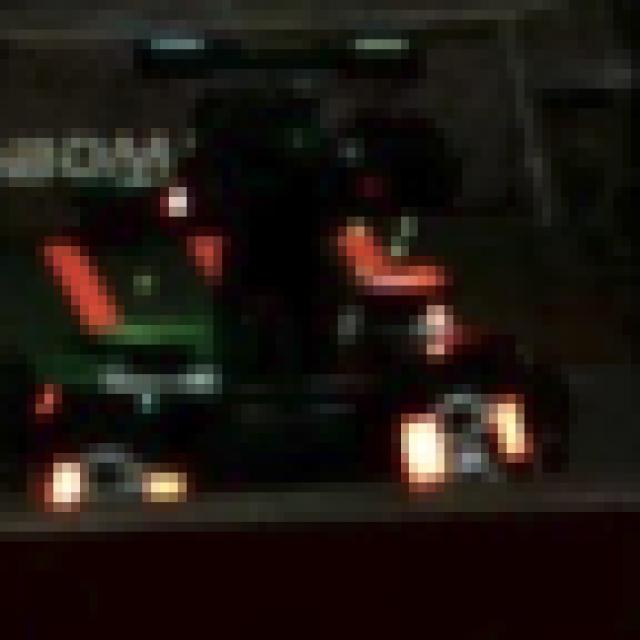Rs: (365, 404, 551, 502)
